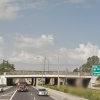Bridge: (6, 61, 93, 84)
